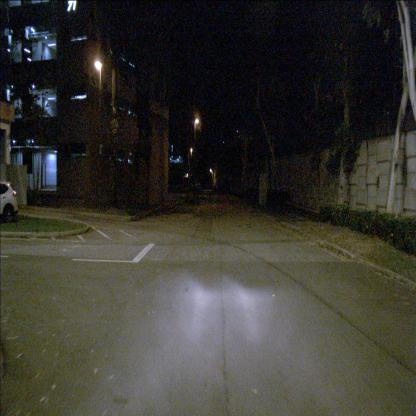vehicle-car: (0, 181, 19, 223)
